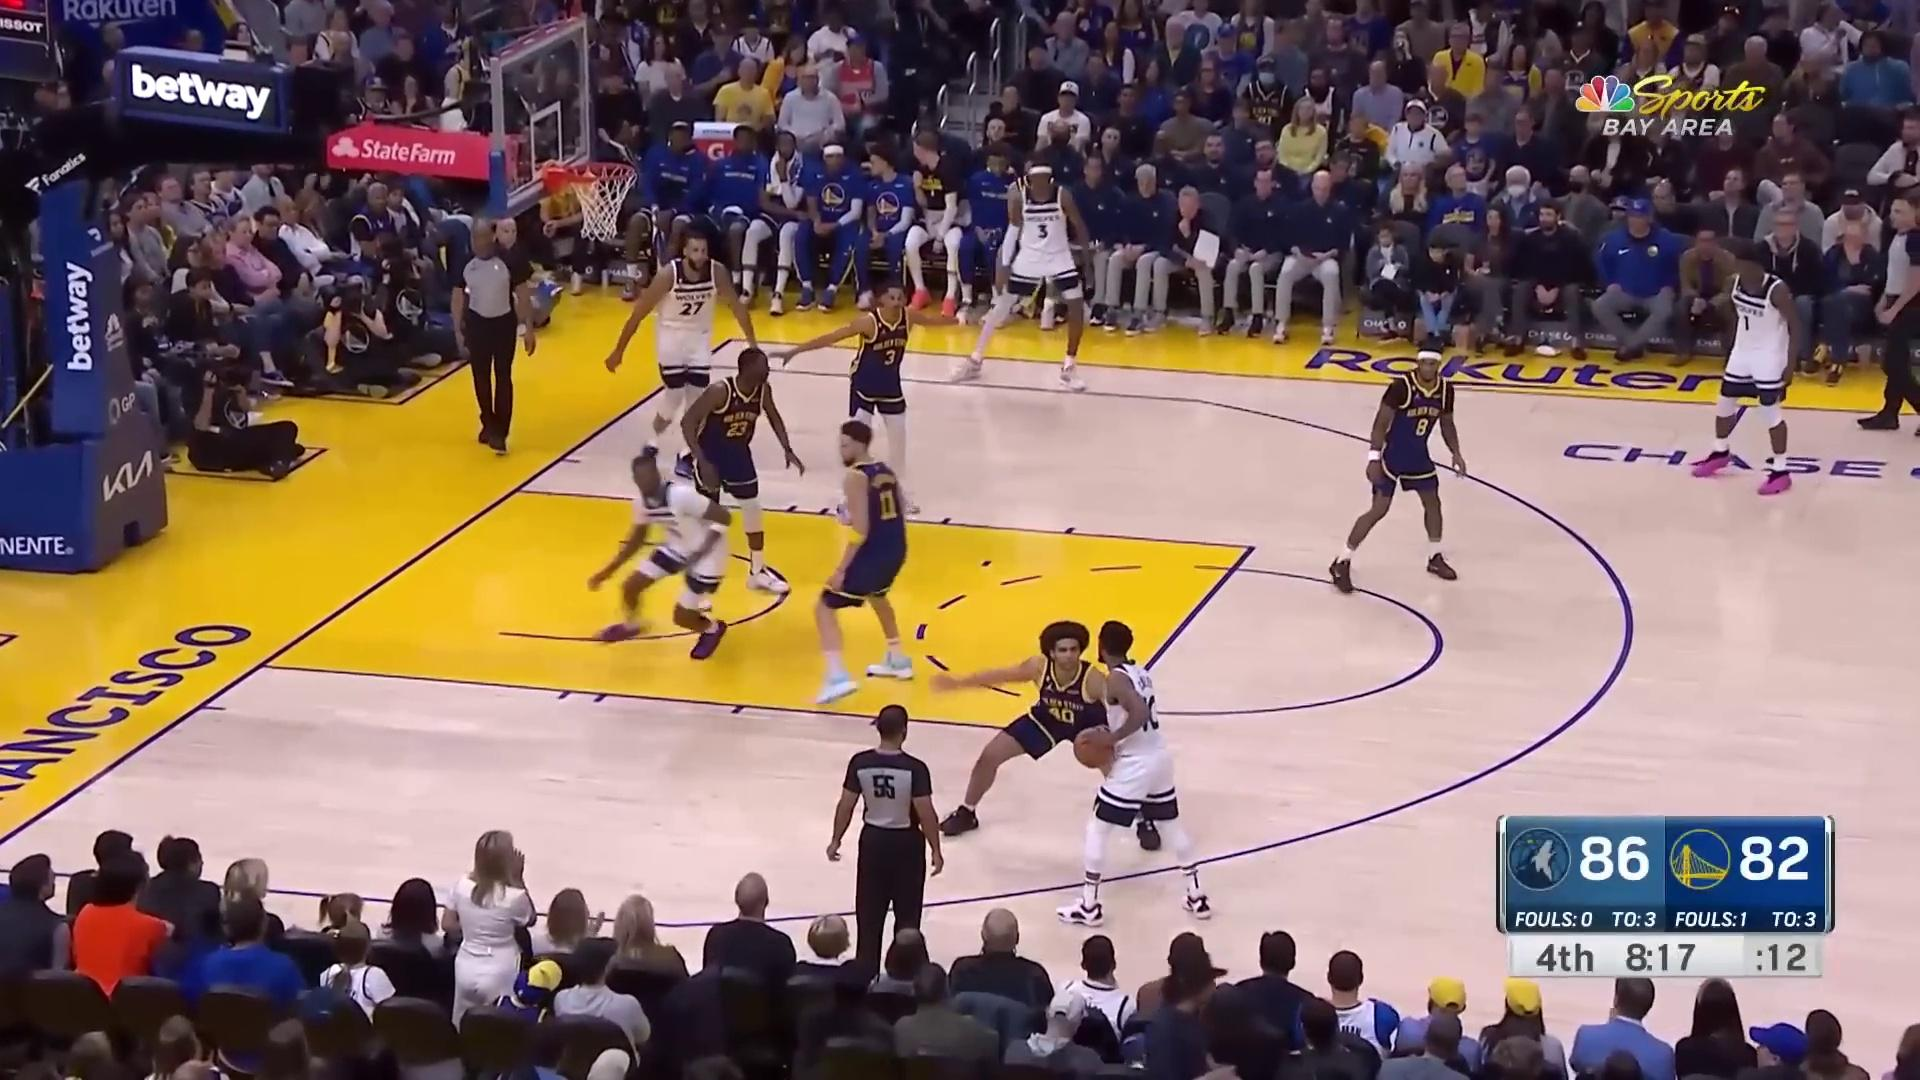Ball: (588, 236, 761, 471), (1066, 719, 1119, 773)
Player: (928, 618, 1176, 856), (1056, 614, 1219, 929), (764, 284, 928, 523), (1328, 339, 1476, 596), (953, 161, 1104, 398), (578, 441, 736, 663), (809, 413, 924, 701), (669, 344, 799, 594), (1686, 239, 1806, 496)
Rim: (479, 4, 631, 249)
